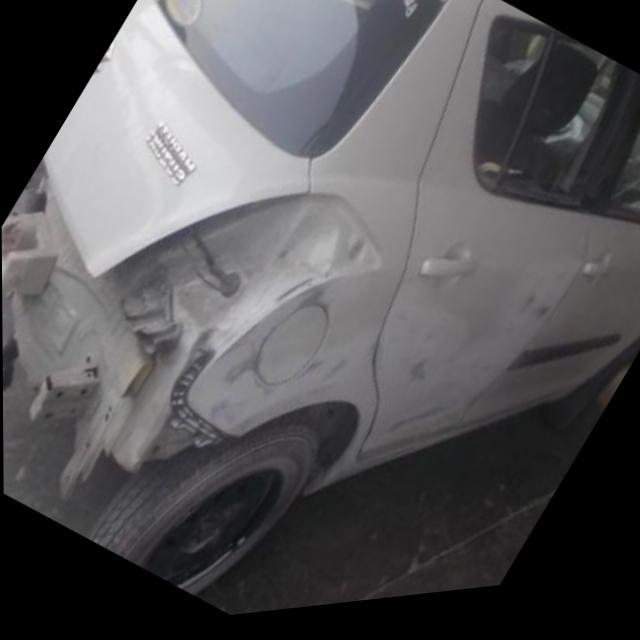dent: (200, 284, 574, 450)
no part: (1, 142, 387, 478)
